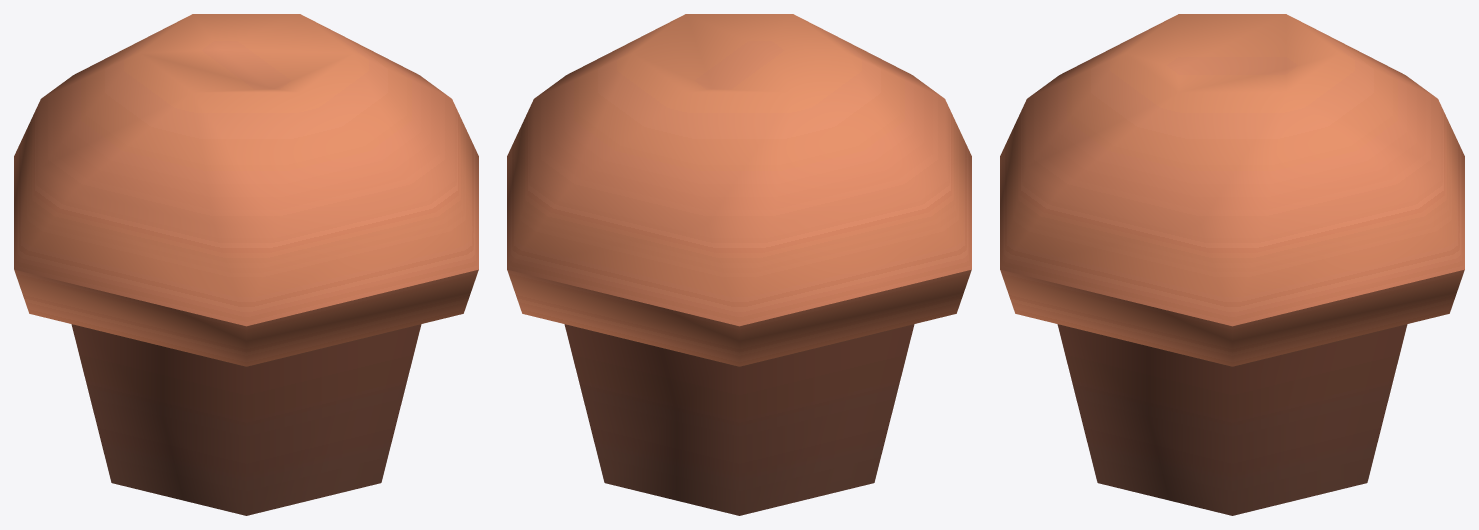
Rendered from muffin.glb.
3 views of the same model, side by side, from view 1: azimuth 30°, elevation 25°; view 2: azimuth 150°, elevation 25°; view 3: azimuth 270°, elevation 25° (orthographic).
Visible parts, largest first — view 1: muffin; view 2: muffin; view 3: muffin.
Boxes of the visible parts, left/top/right/bottom form: muffin: left=14, top=14, right=478, bottom=515; muffin: left=507, top=14, right=971, bottom=515; muffin: left=1000, top=14, right=1464, bottom=515.
Size of the model in its own units: 0.3047 by 0.2486 by 0.2639.
Materials: 1 (1 with a texture image).
